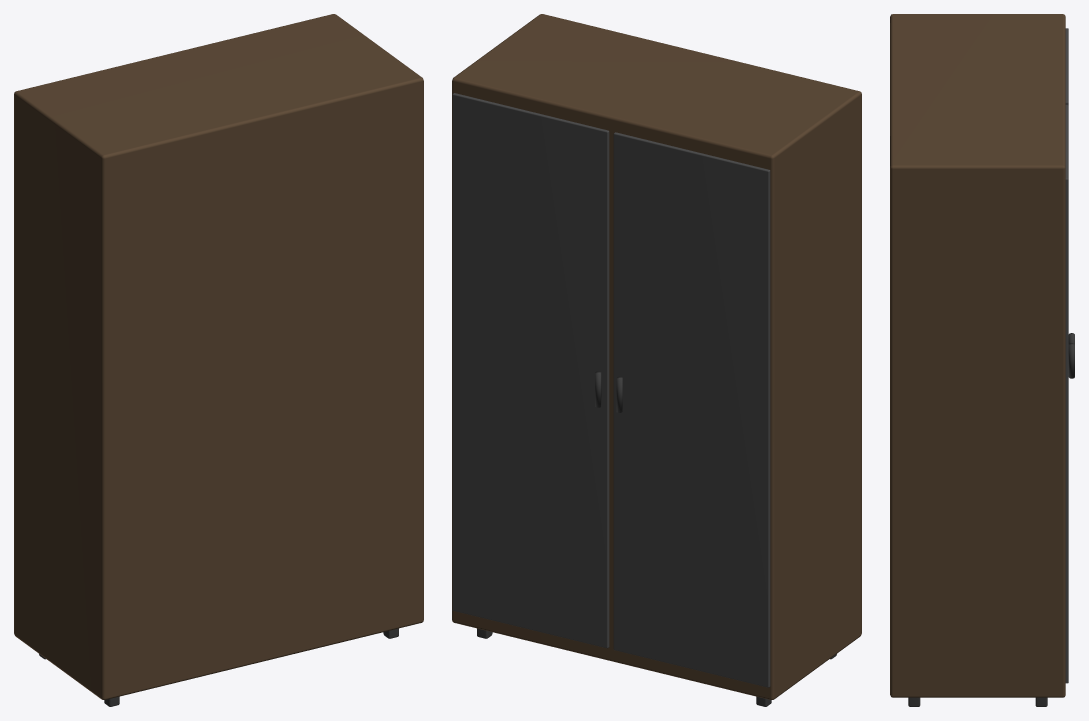
The model's file is wardrobe.glb.
3 views of the same model, side by side, from view 1: azimuth 30°, elevation 25°; view 2: azimuth 150°, elevation 25°; view 3: azimuth 270°, elevation 25° (orthographic). The views are drawn at different scales.
Parts seen in each view (by area): view 1: body; view 2: body; view 3: body.
Boxes of the visible parts, x1,y1,x2,y2 form: body: (14,14,423,706); body: (452,14,861,706); body: (890,14,1074,706).
Size of the model in its own units: 1.2 by 2 by 0.61.
